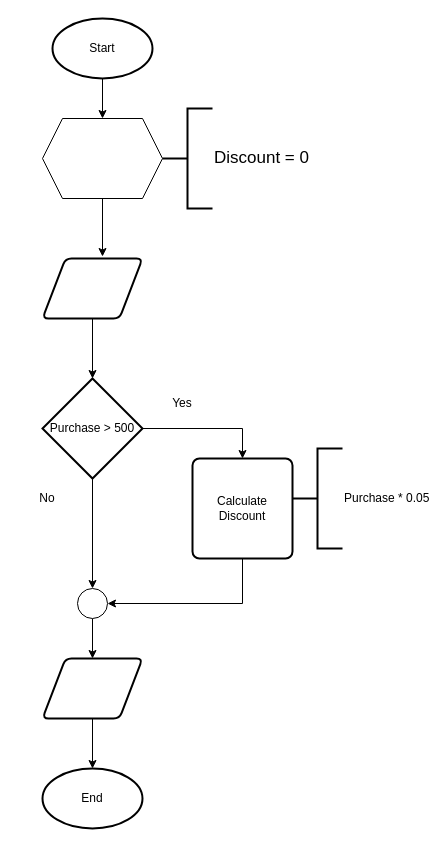
Image size: 446x846. Some labels were removed from this diagram. Here are the shapes that lost their labels. From the top down, the centre of each, then its label:
At [102,158]: "Intialize".
At [92,288]: "Enter Purchase Amount".
At [92,688]: "Display Discount".
